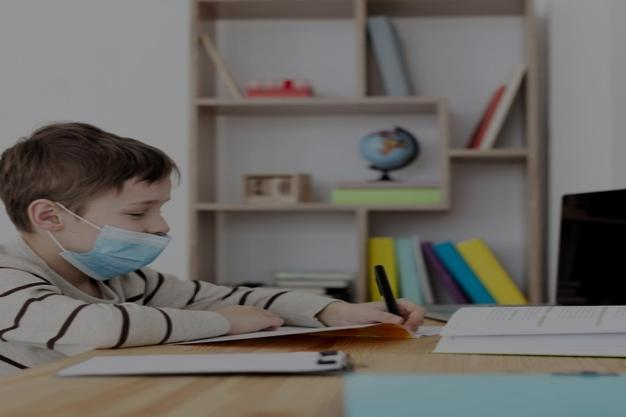mask_weared_incorrect: (1, 119, 178, 283)
